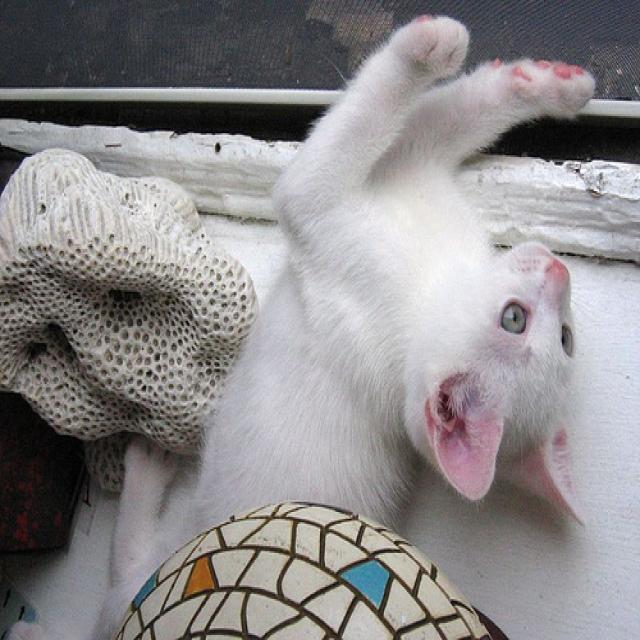cat: (93, 15, 595, 639)
